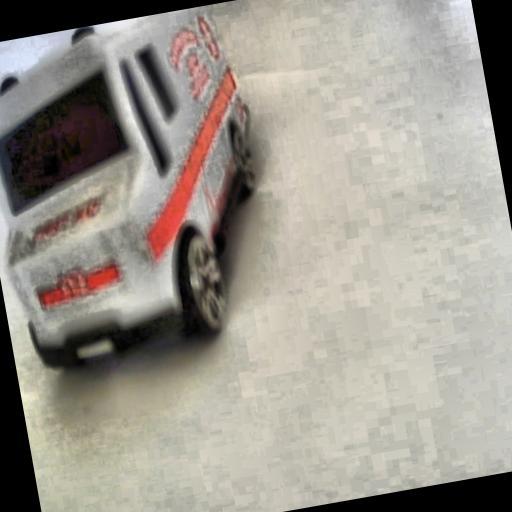ambulance: (0, 1, 287, 376)
